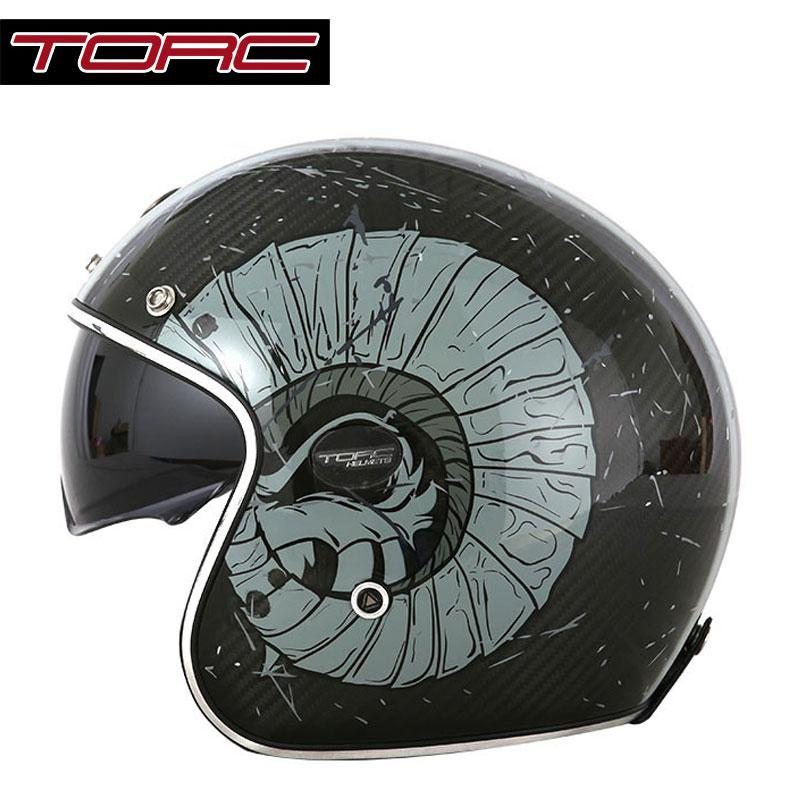with_helmet: (45, 129, 752, 756)
